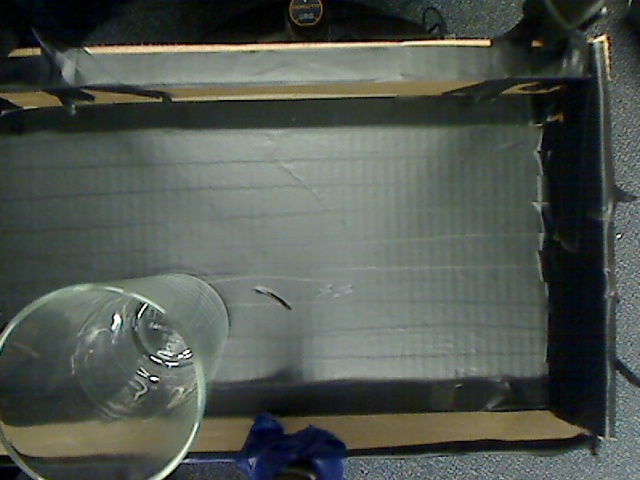cup: (8, 242, 261, 480)
